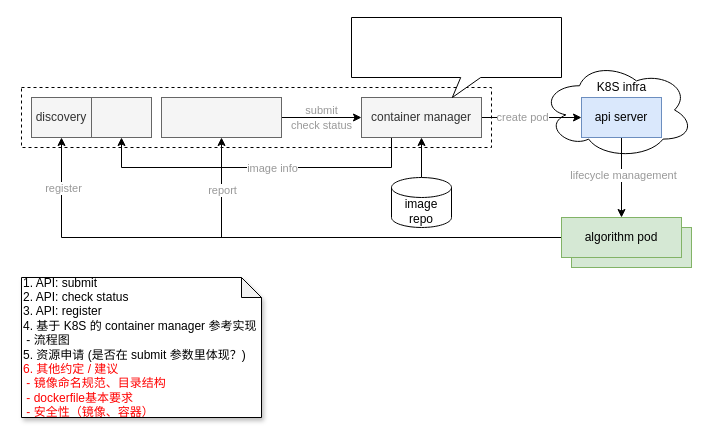
Some shapes in this 711 by 442 pixel diagram are drawn without their labels. Here are the shapes that lost their labels. From the top down, the centre of each, then its label:
At (x=456, y=57): "* 屏蔽具体的容器引擎：docker、podman * 屏蔽具体的容器编排：k8s、openshift * 屏蔽具体的镜像仓库：私有、公有".
At (x=121, y=117): "registry".
At (x=221, y=117): "workflow engine (job&task schedule)".
